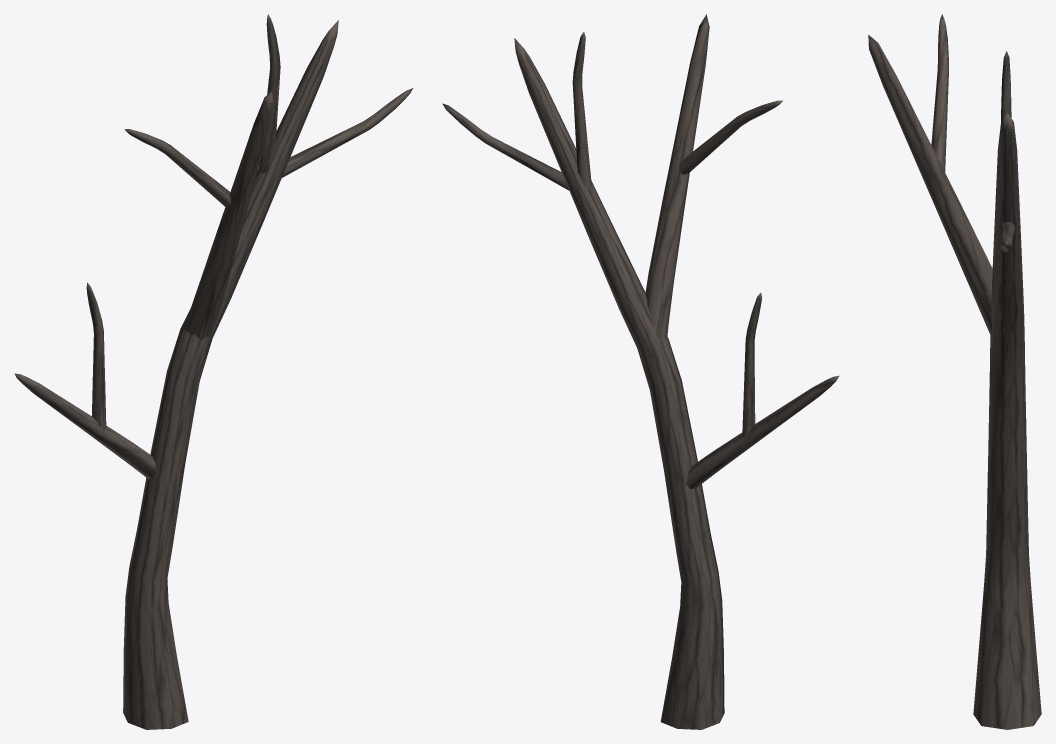
Rendered from DeadTree_9.glb.
The picture shows the model from 3 angles, left to right: view 1: azimuth 30°, elevation 25°; view 2: azimuth 150°, elevation 25°; view 3: azimuth 270°, elevation 25°; orthographic projection. The views are drawn at different scales.
Visible parts, largest first — view 1: DeadTree_9; view 2: DeadTree_9; view 3: DeadTree_9.
Boxes of the visible parts, left/top/right/bottom form: DeadTree_9: left=14, top=14, right=413, bottom=729; DeadTree_9: left=442, top=14, right=839, bottom=729; DeadTree_9: left=868, top=14, right=1041, bottom=729.
Bounding box in the file's own units: 2.06 × 3.3 × 0.7175.
1 material, 1 textured.
